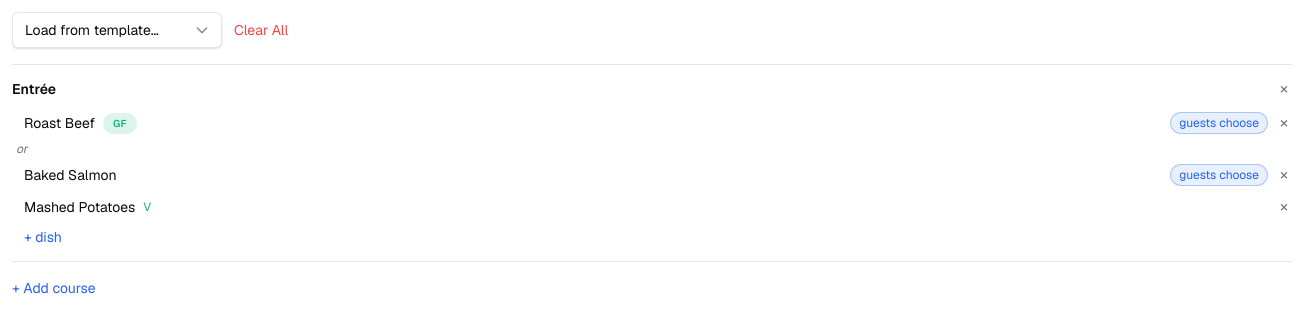
Scenario: MenuBuilder — marking the guest's choice (AC5, AC6, AC7) › returns a row to a plain dish when unflagged
Expected: the text "or" is shown once, 16,141 -> 27,157
Step 1. Click the button "guests choose" in the row of "Baked Salmon" → (1219, 175), box 1170,164 -> 1268,186
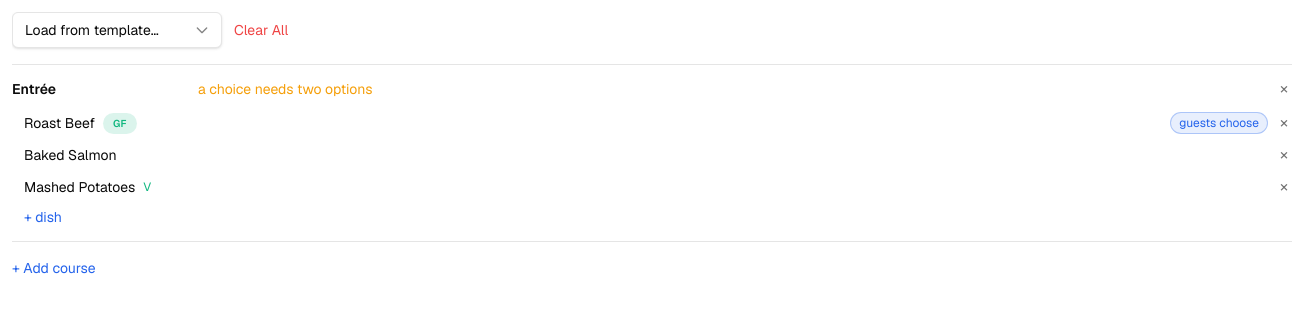
Expected: the text "or" is gone
